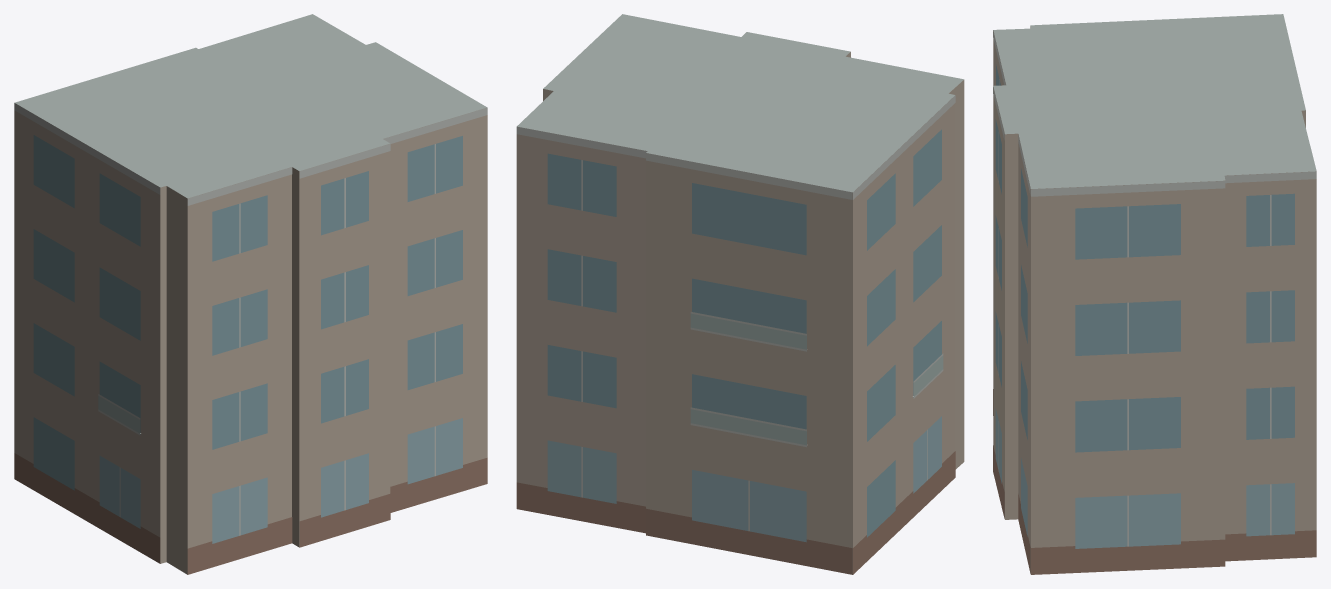
Rendered from survey-upis-32654157.glb.
3 renders of one model, left to right at view 1: azimuth 30°, elevation 25°; view 2: azimuth 150°, elevation 25°; view 3: azimuth 270°, elevation 25°, orthographic. The views are drawn at different scales.
Visible parts, largest first — view 1: survey-upis-32654157.tmp; view 2: survey-upis-32654157.tmp; view 3: survey-upis-32654157.tmp.
Part boxes in pixels (x1,y1,x2,y2): survey-upis-32654157.tmp: [14, 14, 487, 574]; survey-upis-32654157.tmp: [516, 14, 964, 574]; survey-upis-32654157.tmp: [993, 14, 1316, 574].
Size of the model in its own units: 11.88 by 12.2 by 9.28.
